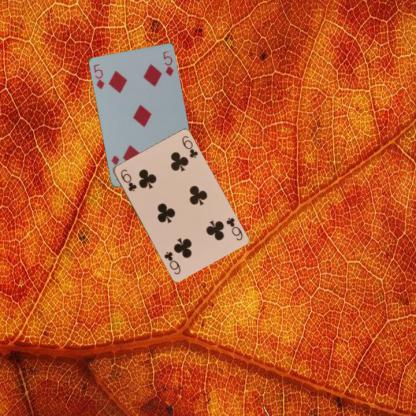5d: (91, 61, 106, 91)
6c: (223, 215, 244, 241), (118, 166, 137, 192)
